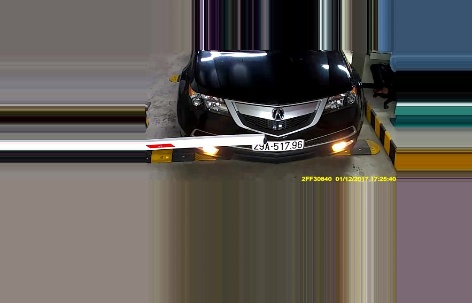plate: (248, 139, 307, 152)
